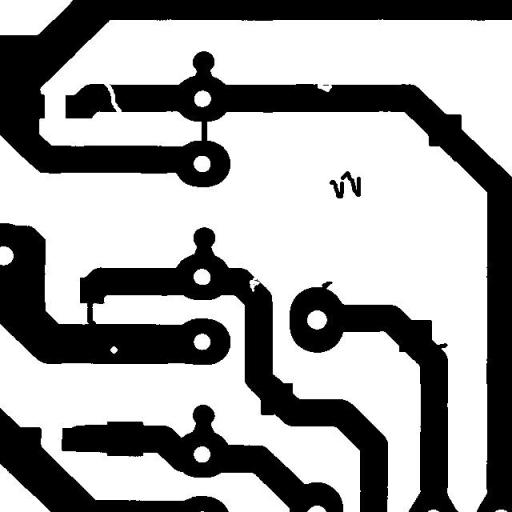copper: (322, 163, 368, 206)
mousebite: (242, 270, 268, 299), (310, 76, 339, 99)
open: (95, 73, 129, 121)
pin-hole: (102, 338, 125, 361)
short: (78, 290, 103, 334), (192, 110, 214, 153)
spur: (312, 274, 340, 298), (426, 335, 456, 357)
